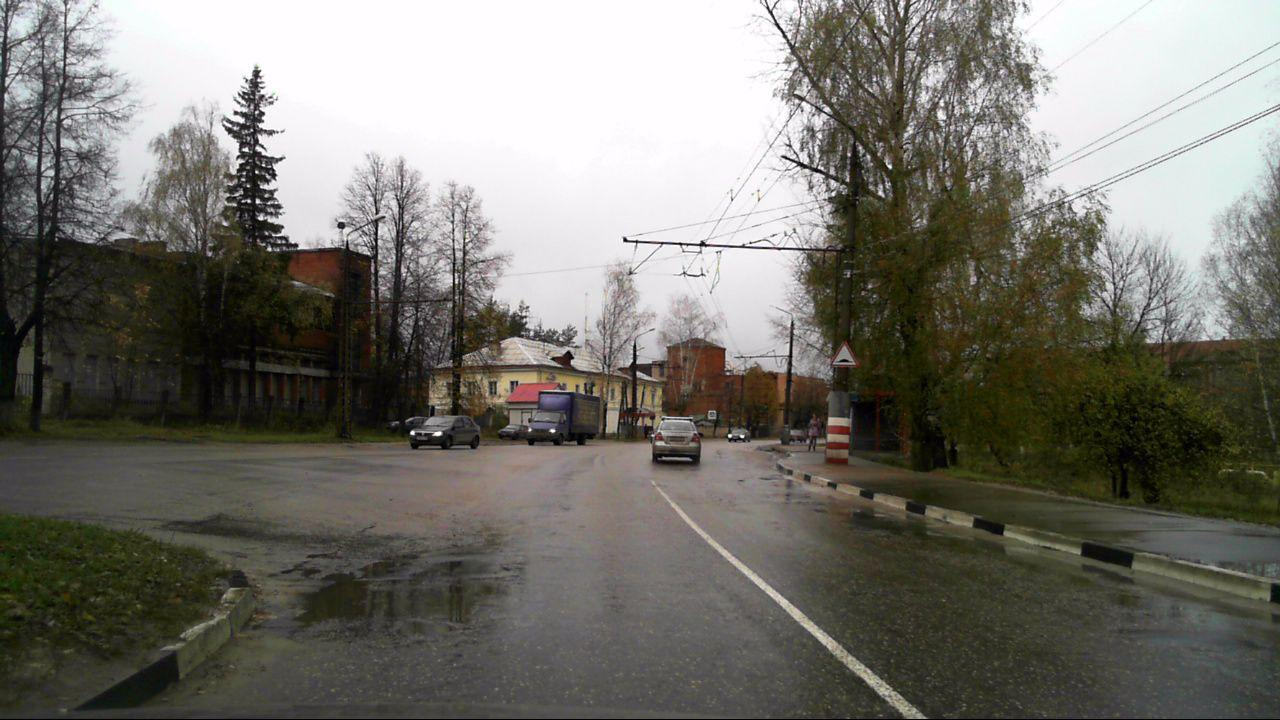road_sign: (828, 339, 860, 367)
